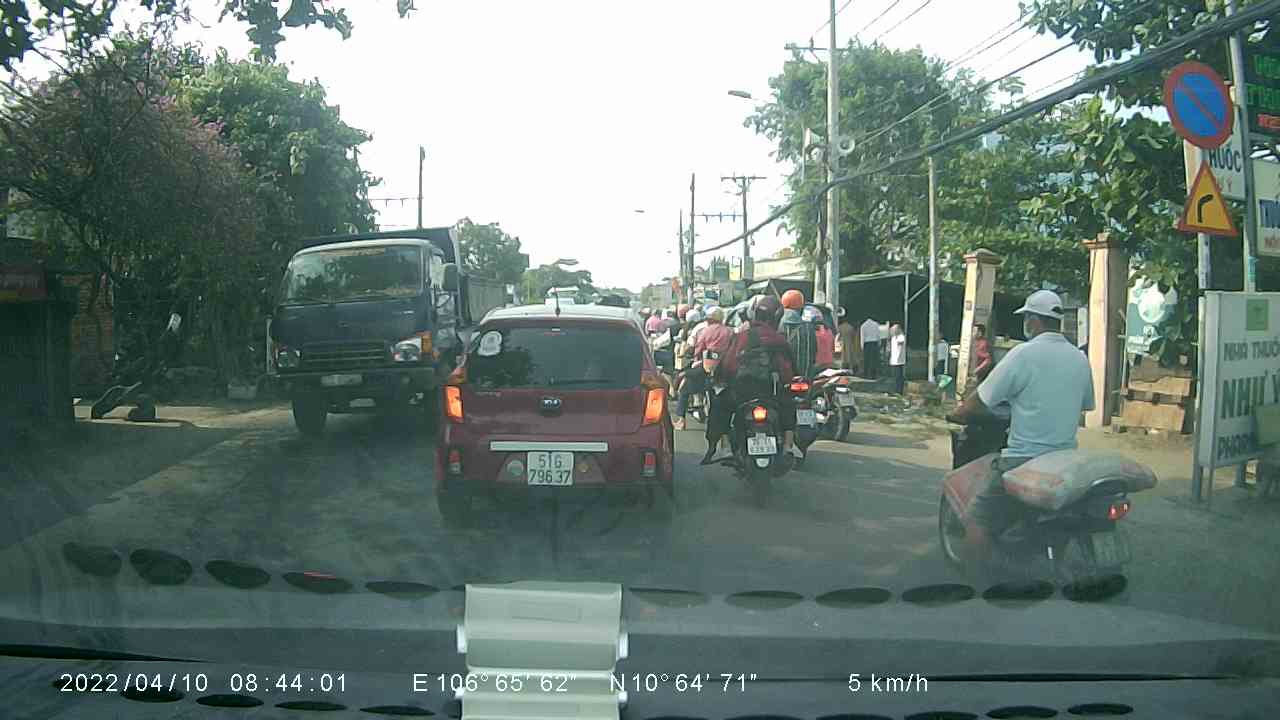Bien khac: (1167, 156, 1242, 239)
Cam do xe: (1162, 53, 1244, 151)
